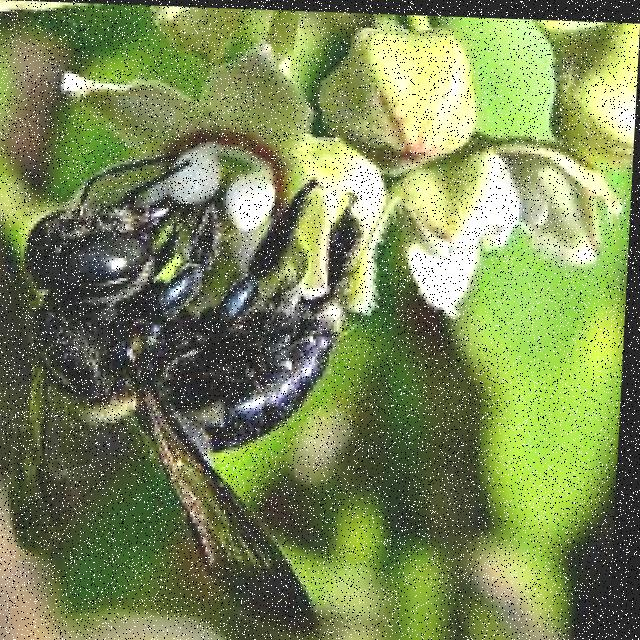Xylocopa: (13, 146, 415, 616)
